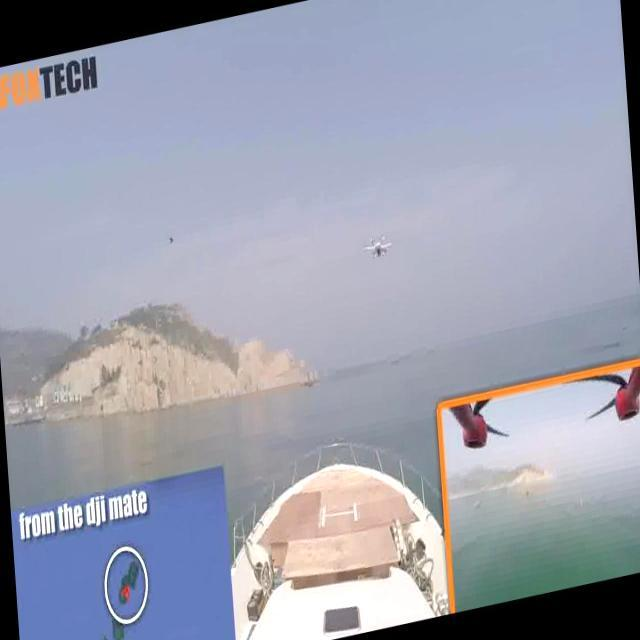drone: (360, 230, 392, 268), (164, 229, 178, 247)
